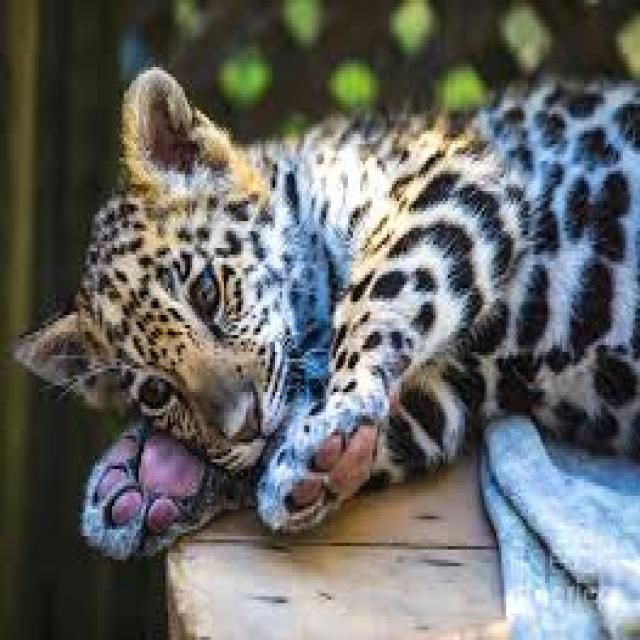Jaguar: (12, 64, 640, 563)
